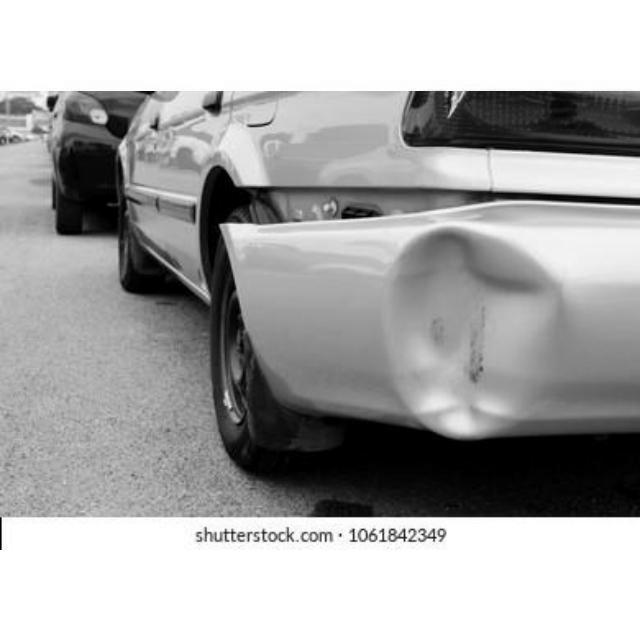rear-bumper-dent: (227, 164, 638, 446)
